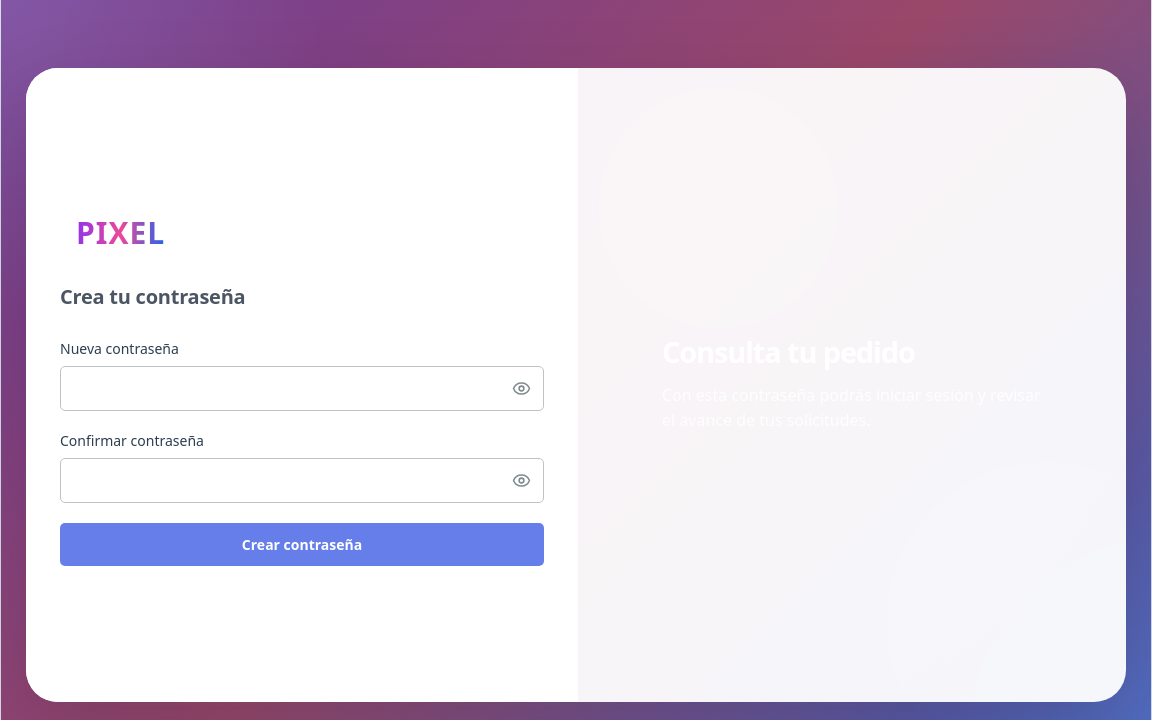
Test case: password pages › toggles both client password fields independently without losing their values or submitting
This screenshot has width=1152, height=720.
Type "Valid123*" into the password field labelled "Nueva contraseña" at [302, 388], box x1=60 y1=366 x2=544 y2=411
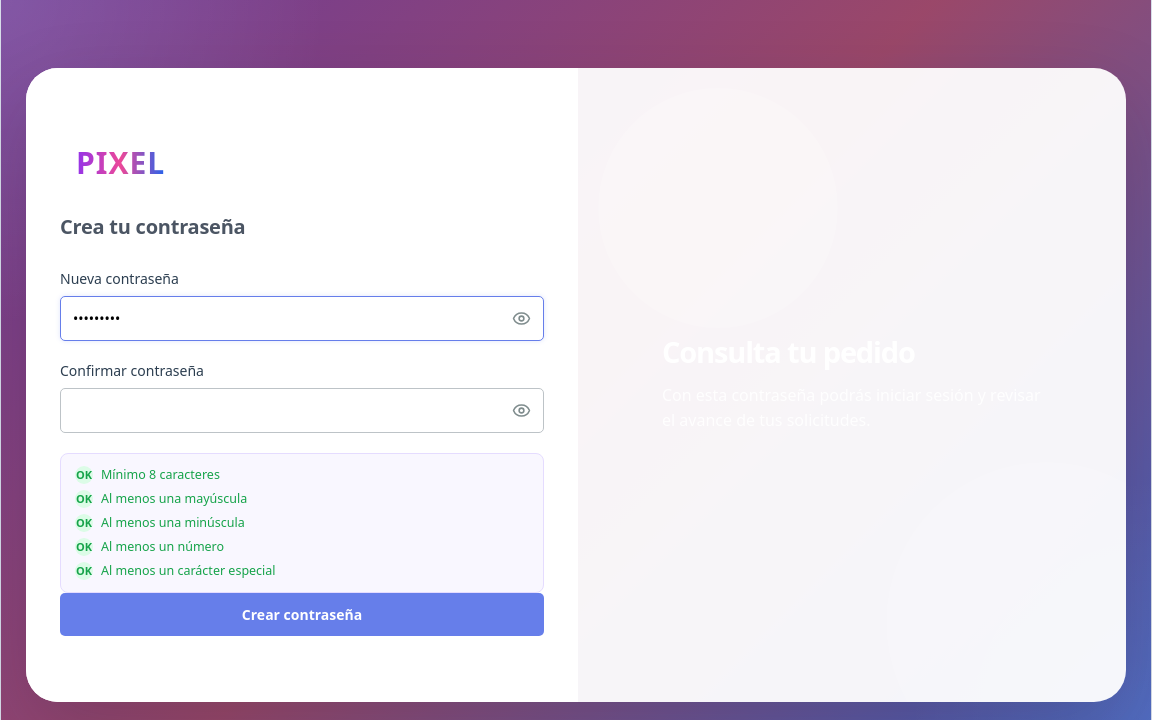
Type "Valid123*" into the password field labelled "Confirmar contraseña" at [302, 410], box x1=60 y1=388 x2=544 y2=433
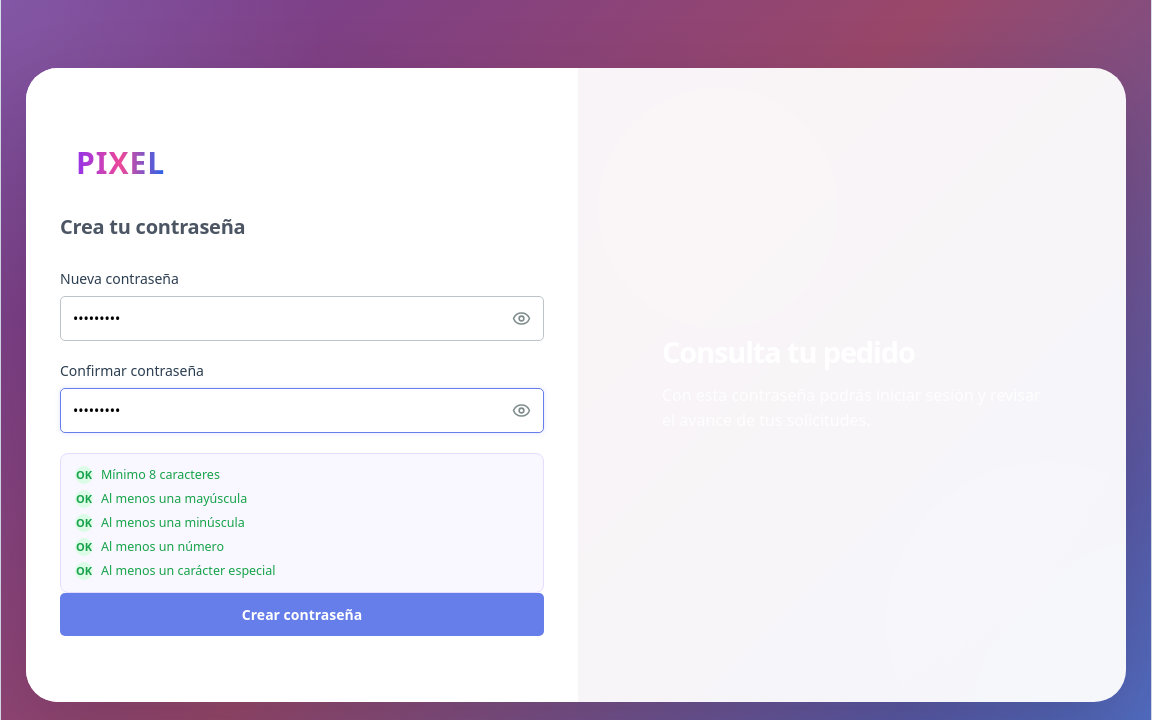
Click the button named "Mostrar contraseña" at [521, 318], box x1=504 y1=301 x2=538 y2=335
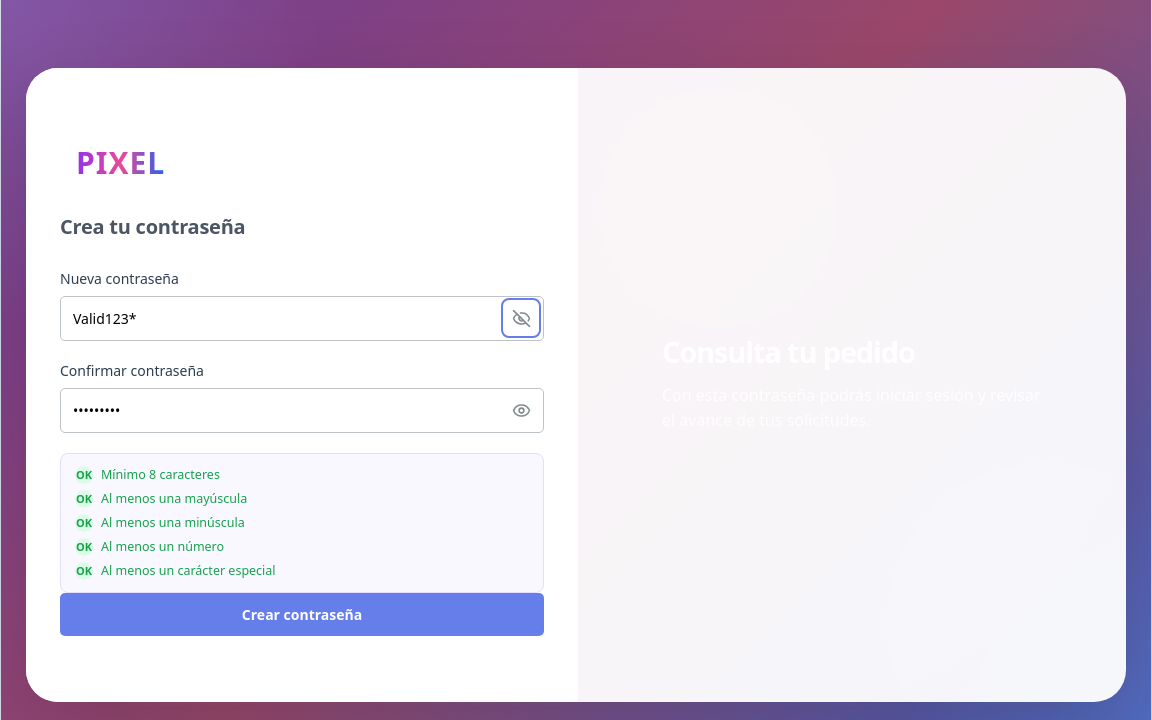
Check: the field labelled "Nueva contraseña" shows its text, box x1=60 y1=296 x2=544 y2=341
Click the button named "Ocultar contraseña" at [521, 318], box x1=504 y1=301 x2=538 y2=335
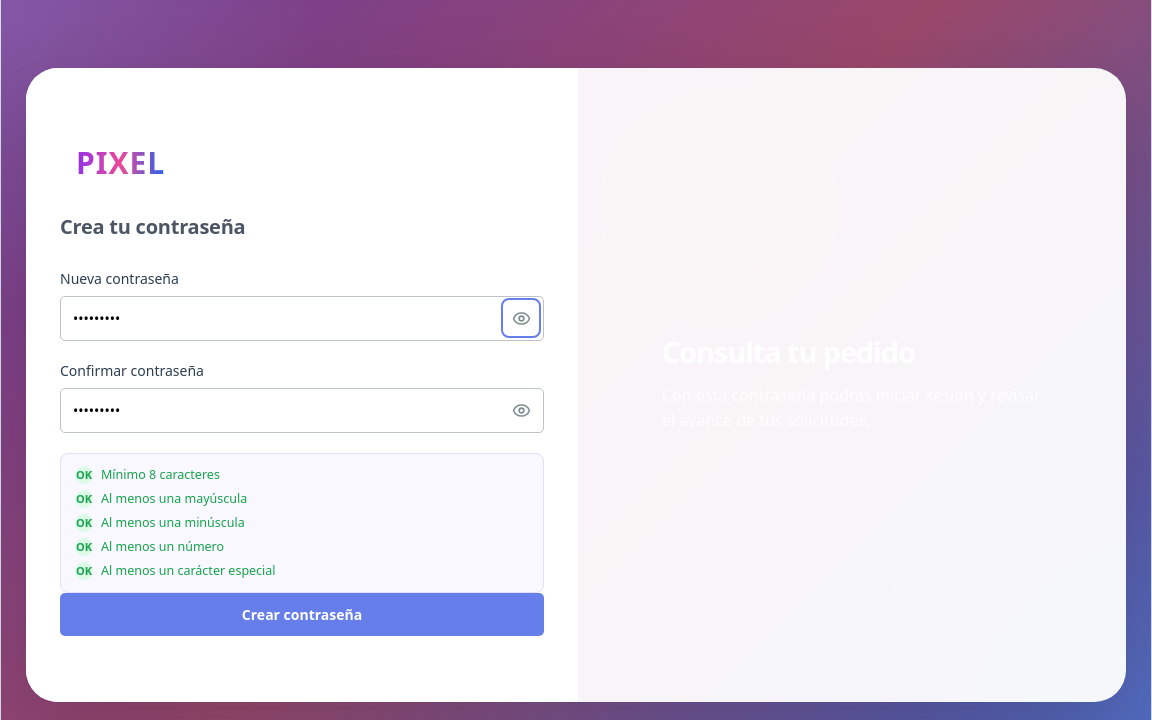
Check: the password field labelled "Nueva contraseña" hides its text, box x1=60 y1=296 x2=544 y2=341
Click the button named "Mostrar confirmación de contraseña" at [521, 410], box x1=504 y1=393 x2=538 y2=427
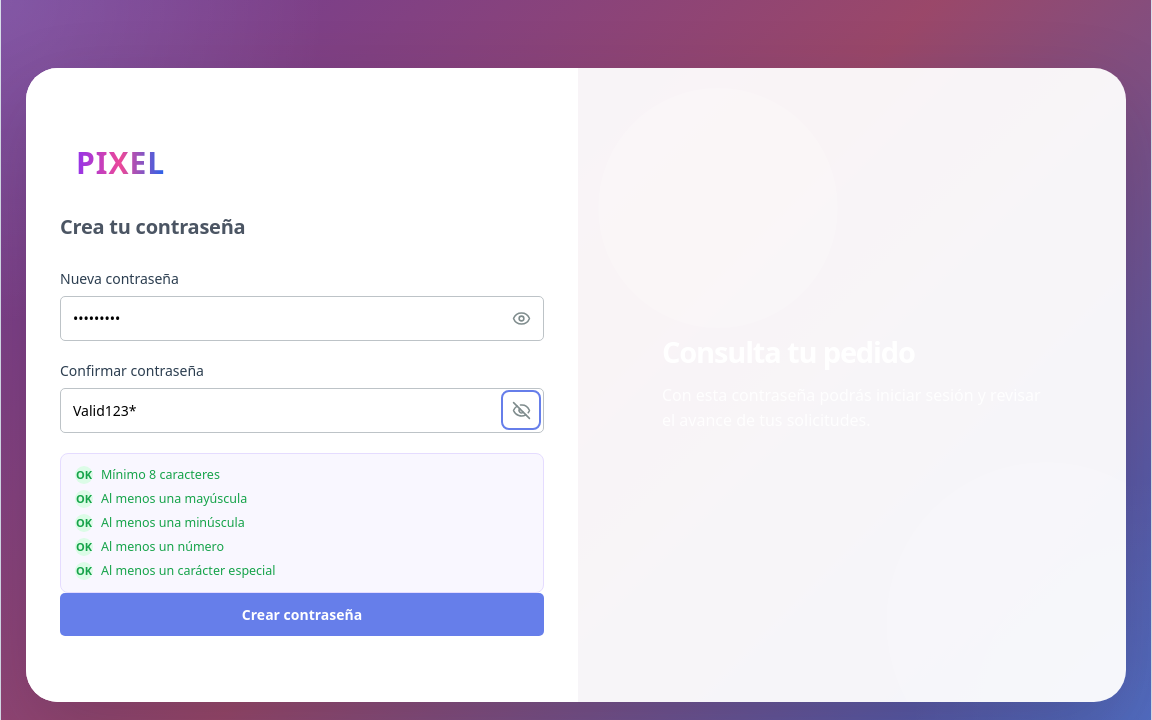
Check: the password field labelled "Nueva contraseña" hides its text, box x1=60 y1=296 x2=544 y2=341
Check: the field labelled "Confirmar contraseña" shows its text, box x1=60 y1=388 x2=544 y2=433
